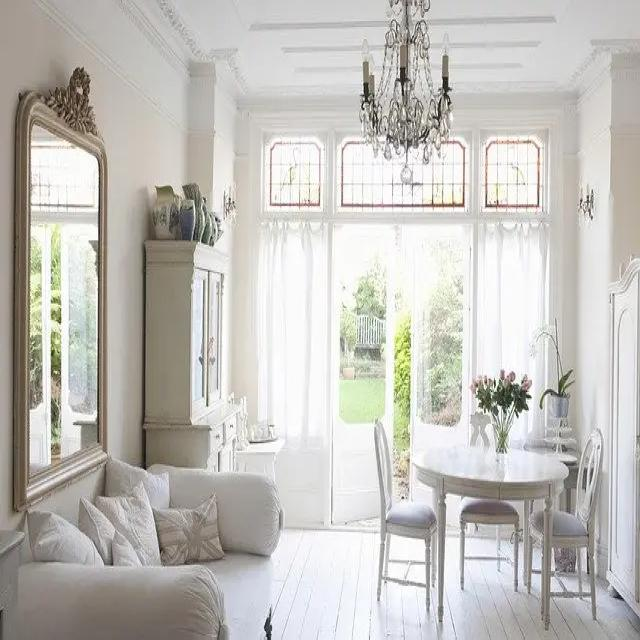white chair: (373, 424, 452, 622), (522, 444, 602, 613)
white desk: (16, 461, 281, 640)
